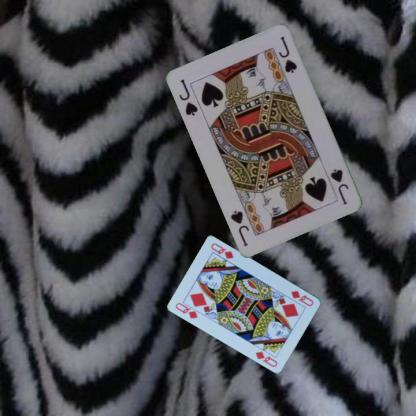Js: (177, 76, 199, 118), (328, 166, 350, 206)
Qd: (174, 300, 204, 320), (289, 288, 315, 307)
